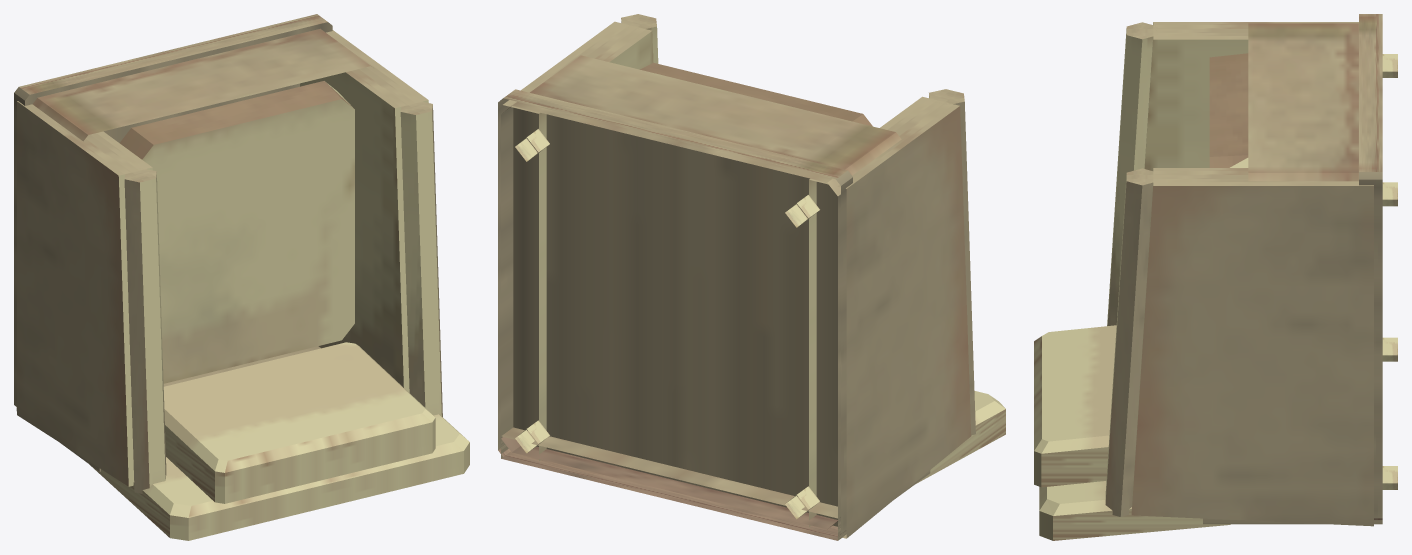
File: pz_chair_seating_indoor_02_white_lazy_fidelity_r1.obj
The picture shows the model from 3 angles, left to right: view 1: azimuth 30°, elevation 25°; view 2: azimuth 150°, elevation 25°; view 3: azimuth 270°, elevation 25°; orthographic projection. The views are drawn at different scales.
Parts seen in each view (by area): view 1: pz_chair_seating_indoor_02_white_lazy__seat_0__seat, pz_chair_seating_indoor_02_white_lazy__lazy_arm_panel_-1__arm, pz_chair_seating_indoor_02_white_lazy__back_cushion_0__back, pz_chair_seating_indoor_02_white_lazy__lazy_arm_panel_1__arm, pz_chair_seating_indoor_02_white_lazy__lower_body__body, pz_chair_seating_indoor_02_white_lazy__rear_shell__back, pz_chair_seating_indoor_02_white_lazy__sloping_rail_-1__arm, pz_chair_seating_indoor_02_white_lazy__sloping_rail_1__arm, pz_chair_seating_indoor_02_white_lazy__low_plinth__body, pz_chair_seating_indoor_02_white_lazy__rear_body_bridge__body; view 2: pz_chair_seating_indoor_02_white_lazy__low_plinth__body, pz_chair_seating_indoor_02_white_lazy__lazy_arm_panel_-1__arm, pz_chair_seating_indoor_02_white_lazy__lower_body__body, pz_chair_seating_indoor_02_white_lazy__lazy_arm_panel_1__arm, pz_chair_seating_indoor_02_white_lazy__rear_body_bridge__body, pz_chair_seating_indoor_02_white_lazy__seat_0__seat, pz_chair_seating_indoor_02_white_lazy__sloping_rail_-1__arm, pz_chair_seating_indoor_02_white_lazy__rear_shell__back, pz_chair_seating_indoor_02_white_lazy__sloping_rail_1__arm, pz_chair_seating_indoor_02_white_lazy__foot_-1_1__frame, pz_chair_seating_indoor_02_white_lazy__foot_1_1__frame, pz_chair_seating_indoor_02_white_lazy__foot_-1_-1__frame; view 3: pz_chair_seating_indoor_02_white_lazy__lazy_arm_panel_1__arm, pz_chair_seating_indoor_02_white_lazy__lower_body__body, pz_chair_seating_indoor_02_white_lazy__back_cushion_0__back, pz_chair_seating_indoor_02_white_lazy__lazy_arm_panel_-1__arm, pz_chair_seating_indoor_02_white_lazy__sloping_rail_1__arm, pz_chair_seating_indoor_02_white_lazy__low_plinth__body, pz_chair_seating_indoor_02_white_lazy__sloping_rail_-1__arm, pz_chair_seating_indoor_02_white_lazy__rear_shell__back, pz_chair_seating_indoor_02_white_lazy__seat_0__seat, pz_chair_seating_indoor_02_white_lazy__rear_body_bridge__body.
Boxes of the visible parts, x1=… form: pz_chair_seating_indoor_02_white_lazy__seat_0__seat: x1=119, y1=81, x2=354, y2=383; pz_chair_seating_indoor_02_white_lazy__lazy_arm_panel_-1__arm: x1=17, y1=101, x2=152, y2=486; pz_chair_seating_indoor_02_white_lazy__back_cushion_0__back: x1=163, y1=342, x2=435, y2=503; pz_chair_seating_indoor_02_white_lazy__lazy_arm_panel_1__arm: x1=300, y1=30, x2=428, y2=392; pz_chair_seating_indoor_02_white_lazy__lower_body__body: x1=32, y1=28, x2=373, y2=141; pz_chair_seating_indoor_02_white_lazy__rear_shell__back: x1=89, y1=414, x2=469, y2=540; pz_chair_seating_indoor_02_white_lazy__sloping_rail_-1__arm: x1=124, y1=168, x2=166, y2=493; pz_chair_seating_indoor_02_white_lazy__sloping_rail_1__arm: x1=400, y1=101, x2=442, y2=416; pz_chair_seating_indoor_02_white_lazy__low_plinth__body: x1=14, y1=14, x2=332, y2=406; pz_chair_seating_indoor_02_white_lazy__rear_body_bridge__body: x1=16, y1=346, x2=320, y2=471; pz_chair_seating_indoor_02_white_lazy__low_plinth__body: x1=498, y1=89, x2=852, y2=538; pz_chair_seating_indoor_02_white_lazy__lazy_arm_panel_-1__arm: x1=809, y1=96, x2=971, y2=538; pz_chair_seating_indoor_02_white_lazy__lower_body__body: x1=501, y1=55, x2=901, y2=529; pz_chair_seating_indoor_02_white_lazy__lazy_arm_panel_1__arm: x1=503, y1=21, x2=653, y2=460; pz_chair_seating_indoor_02_white_lazy__rear_body_bridge__body: x1=501, y1=427, x2=930, y2=540; pz_chair_seating_indoor_02_white_lazy__seat_0__seat: x1=640, y1=62, x2=872, y2=126; pz_chair_seating_indoor_02_white_lazy__sloping_rail_-1__arm: x1=929, y1=89, x2=975, y2=435; pz_chair_seating_indoor_02_white_lazy__rear_shell__back: x1=916, y1=391, x2=1005, y2=483; pz_chair_seating_indoor_02_white_lazy__sloping_rail_1__arm: x1=621, y1=14, x2=658, y2=63; pz_chair_seating_indoor_02_white_lazy__foot_-1_1__frame: x1=785, y1=195, x2=819, y2=227; pz_chair_seating_indoor_02_white_lazy__foot_1_1__frame: x1=515, y1=129, x2=549, y2=161; pz_chair_seating_indoor_02_white_lazy__foot_-1_-1__frame: x1=785, y1=486, x2=819, y2=519; pz_chair_seating_indoor_02_white_lazy__lazy_arm_panel_1__arm: x1=1131, y1=168, x2=1373, y2=526; pz_chair_seating_indoor_02_white_lazy__lower_body__body: x1=1248, y1=23, x2=1358, y2=181; pz_chair_seating_indoor_02_white_lazy__back_cushion_0__back: x1=1034, y1=325, x2=1116, y2=487; pz_chair_seating_indoor_02_white_lazy__lazy_arm_panel_-1__arm: x1=1144, y1=22, x2=1358, y2=170; pz_chair_seating_indoor_02_white_lazy__sloping_rail_1__arm: x1=1105, y1=168, x2=1153, y2=516; pz_chair_seating_indoor_02_white_lazy__low_plinth__body: x1=1359, y1=14, x2=1382, y2=519; pz_chair_seating_indoor_02_white_lazy__sloping_rail_-1__arm: x1=1107, y1=22, x2=1157, y2=325; pz_chair_seating_indoor_02_white_lazy__rear_shell__back: x1=1039, y1=481, x2=1230, y2=540; pz_chair_seating_indoor_02_white_lazy__seat_0__seat: x1=1209, y1=53, x2=1248, y2=167; pz_chair_seating_indoor_02_white_lazy__rear_body_bridge__body: x1=1203, y1=518, x2=1382, y2=524.
Size of the model in its own units: 0.8705 by 0.9154 by 0.8159.
Materials: 1 (1 with a texture image).
